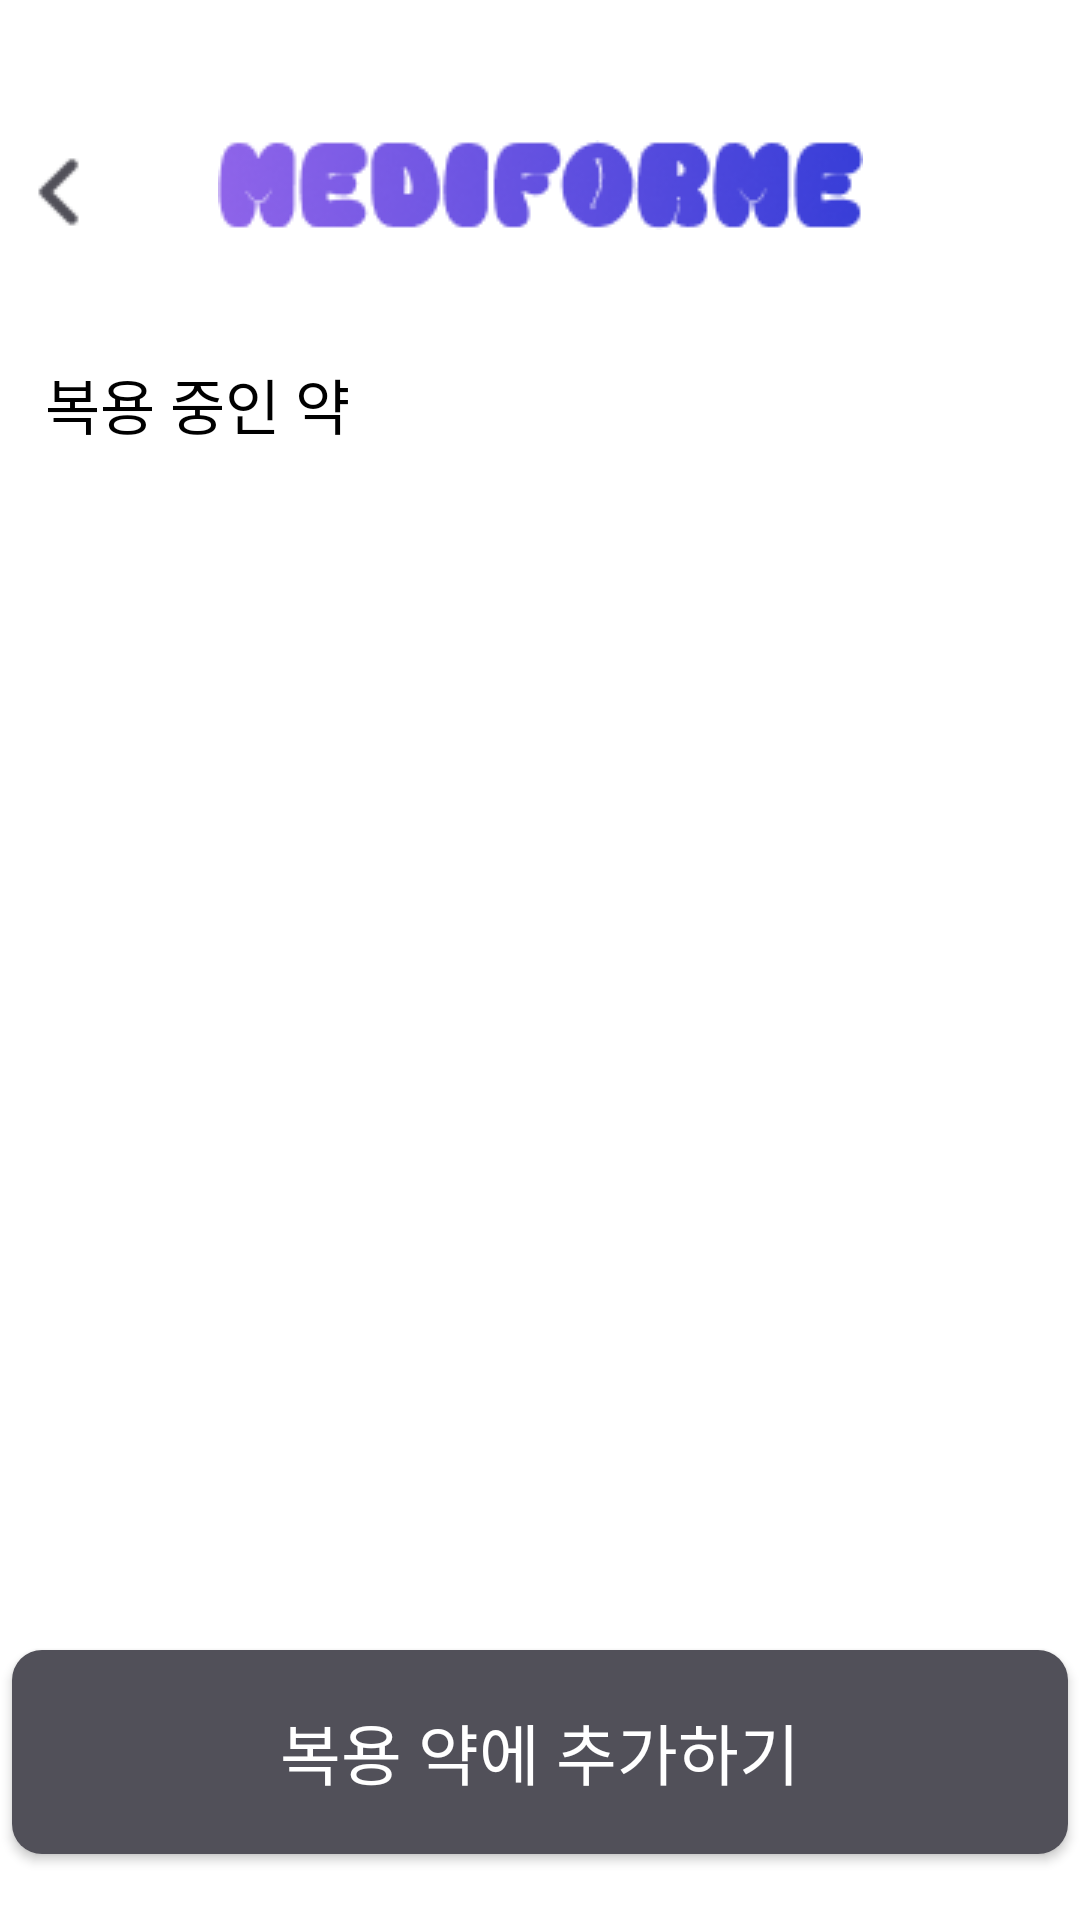

Named icons in this screenshot (1080 x 1920) and their bounding boxes, (x1, y1, x2, y2):
back: (38, 158, 79, 226)
